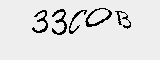В: (115, 8, 136, 31)
З: (48, 7, 69, 36), (32, 7, 47, 35)
О: (84, 5, 111, 29)
С: (67, 5, 86, 35)
